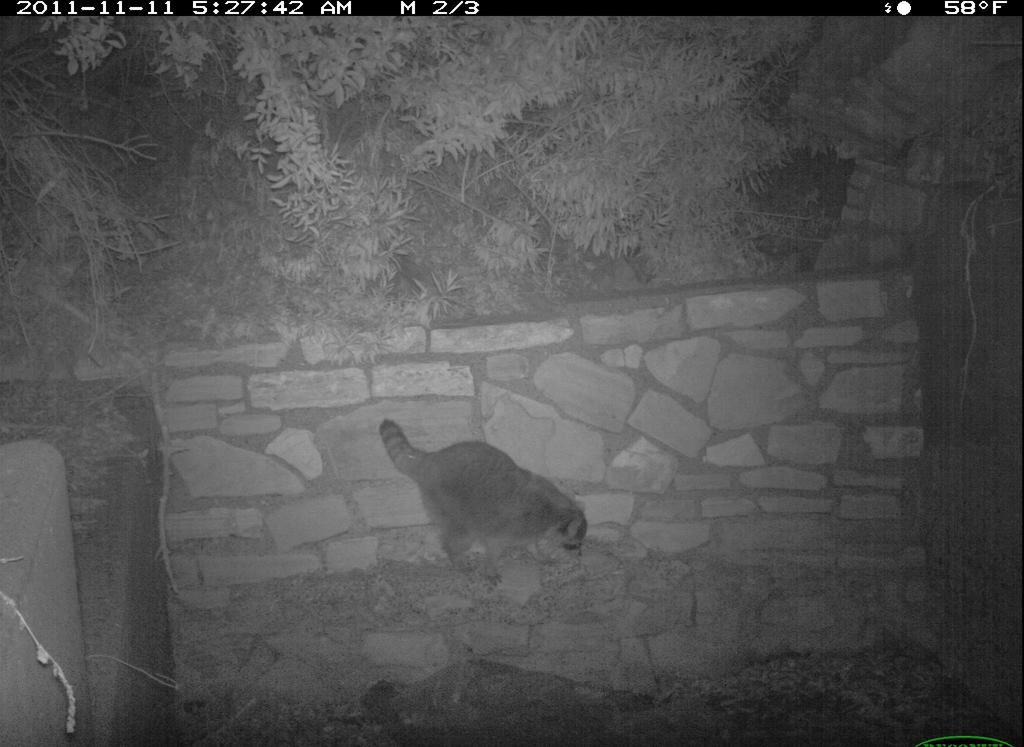raccoon: (367, 399, 597, 597)
